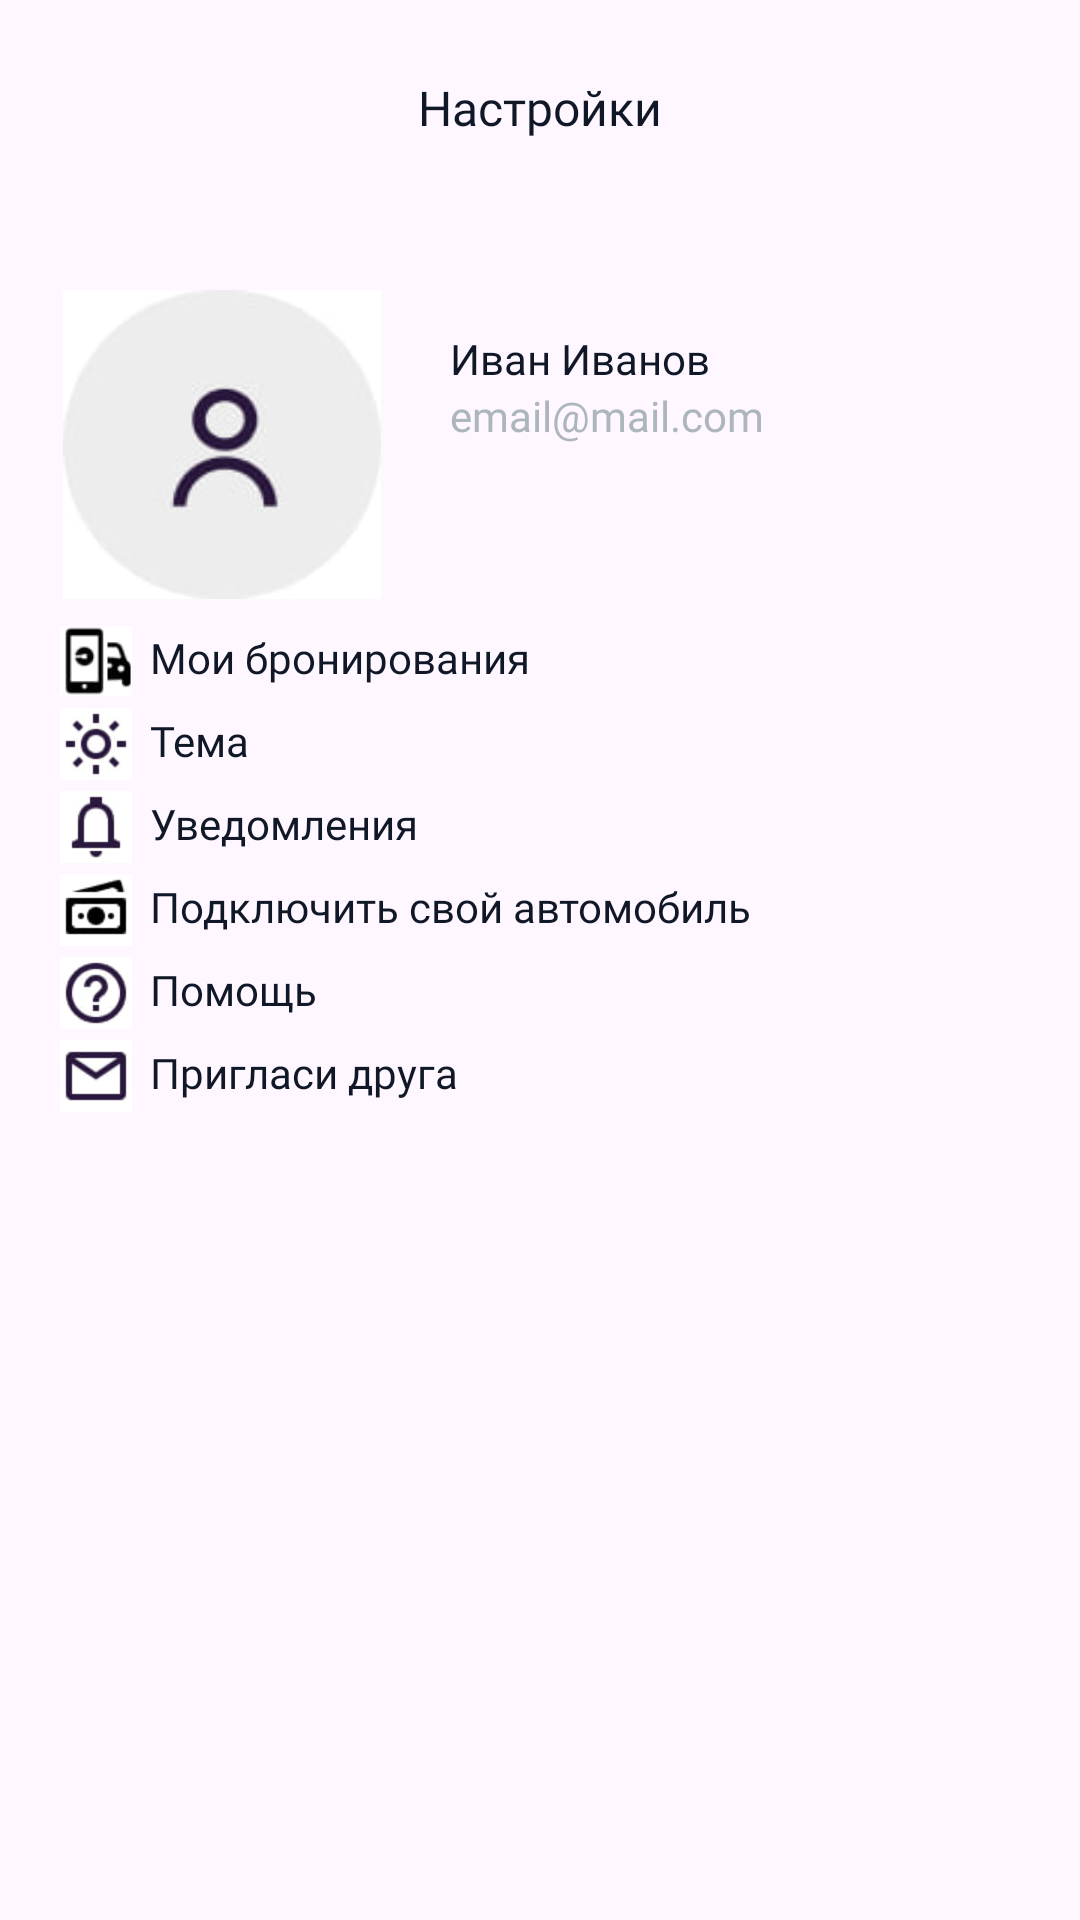

Screen size 1080*1920. Icon name, then its box in pixels as (x1, y1, x2, y2):
mail: (65, 1051, 127, 1101)
money: (65, 879, 127, 935)
notification: (71, 796, 121, 858)
rent: (65, 628, 131, 695)
theme: (65, 713, 127, 775)
what: (65, 962, 127, 1024)
